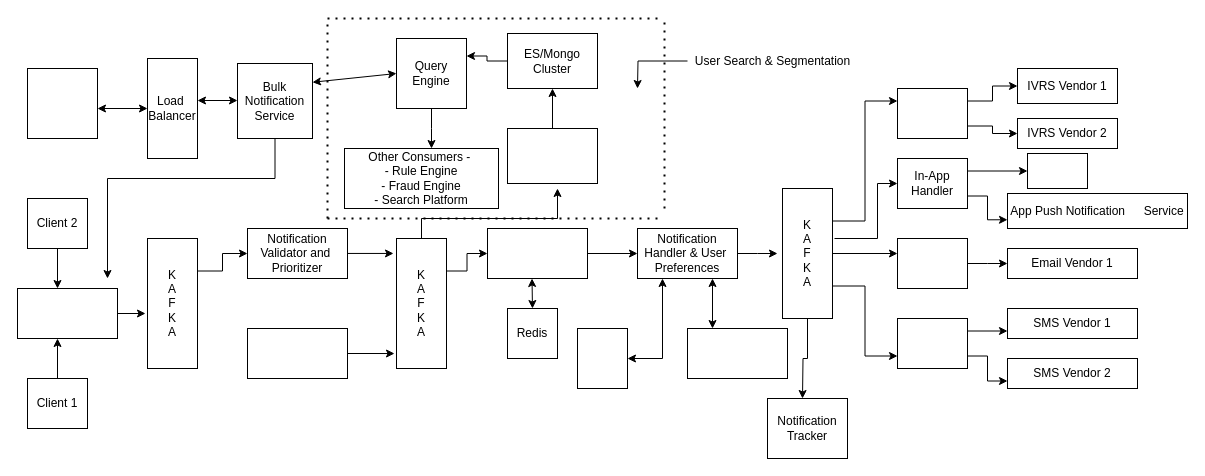
Image size: 1205x476. Some labels were removed from this diagram. Here are the shapes that lost their labels. From the top down, the centre of each, then its label:
point (62, 103): Bulk Notification UI
point (932, 113): IVRS Handler
point (552, 156): Transaction Data Parser
point (1057, 170): Firebase
point (537, 253): Rate Limiter + Request Counter
point (932, 263): Email Handler
point (67, 313): Notification Service
point (297, 353): User Transaction Data
point (602, 358): User Service
point (737, 353): Preferences DB MySQL
point (932, 343): SMS Handler
